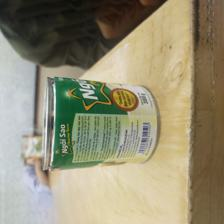NSPN_Lon: (37, 76, 159, 162)
